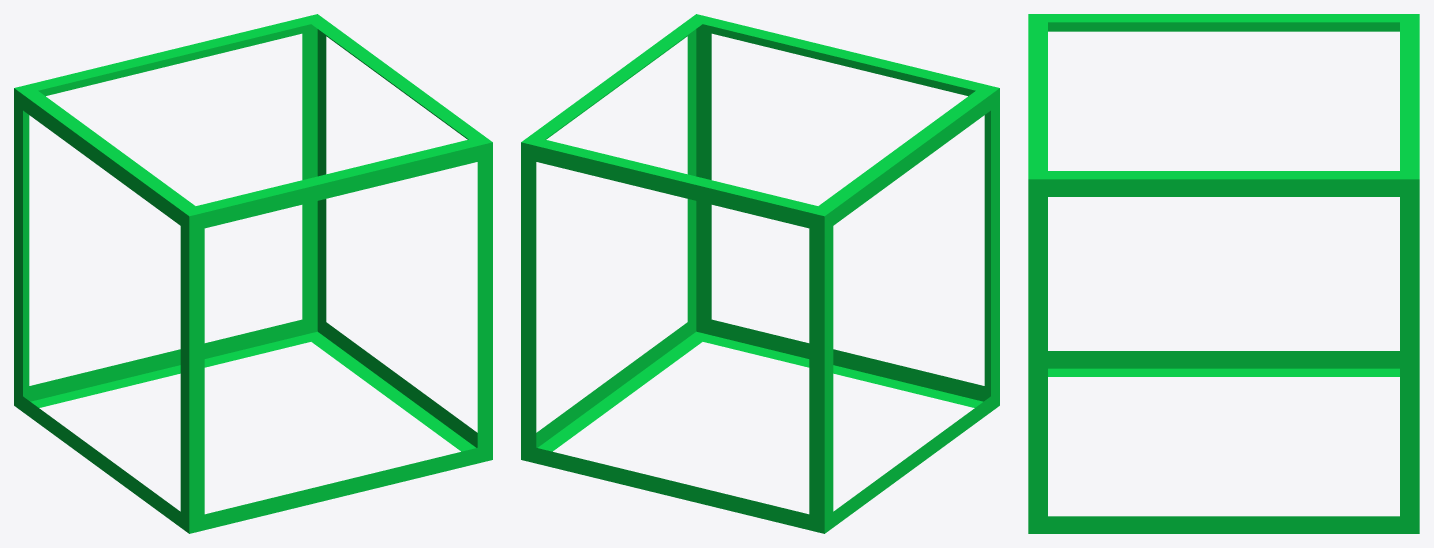
The model's file is DevBoxTriggerVolume.glb.
3 views of the same model, side by side, from view 1: azimuth 30°, elevation 25°; view 2: azimuth 150°, elevation 25°; view 3: azimuth 270°, elevation 25° (orthographic). The views are drawn at different scales.
Parts seen in each view (by area): view 1: Cube; view 2: Cube; view 3: Cube.
Boxes of the visible parts, x1=… form: Cube: x1=14, y1=14, x2=492, y2=533; Cube: x1=521, y1=14, x2=999, y2=533; Cube: x1=1028, y1=14, x2=1419, y2=533.
Bounding box in the file's own units: 1 × 1 × 1.
